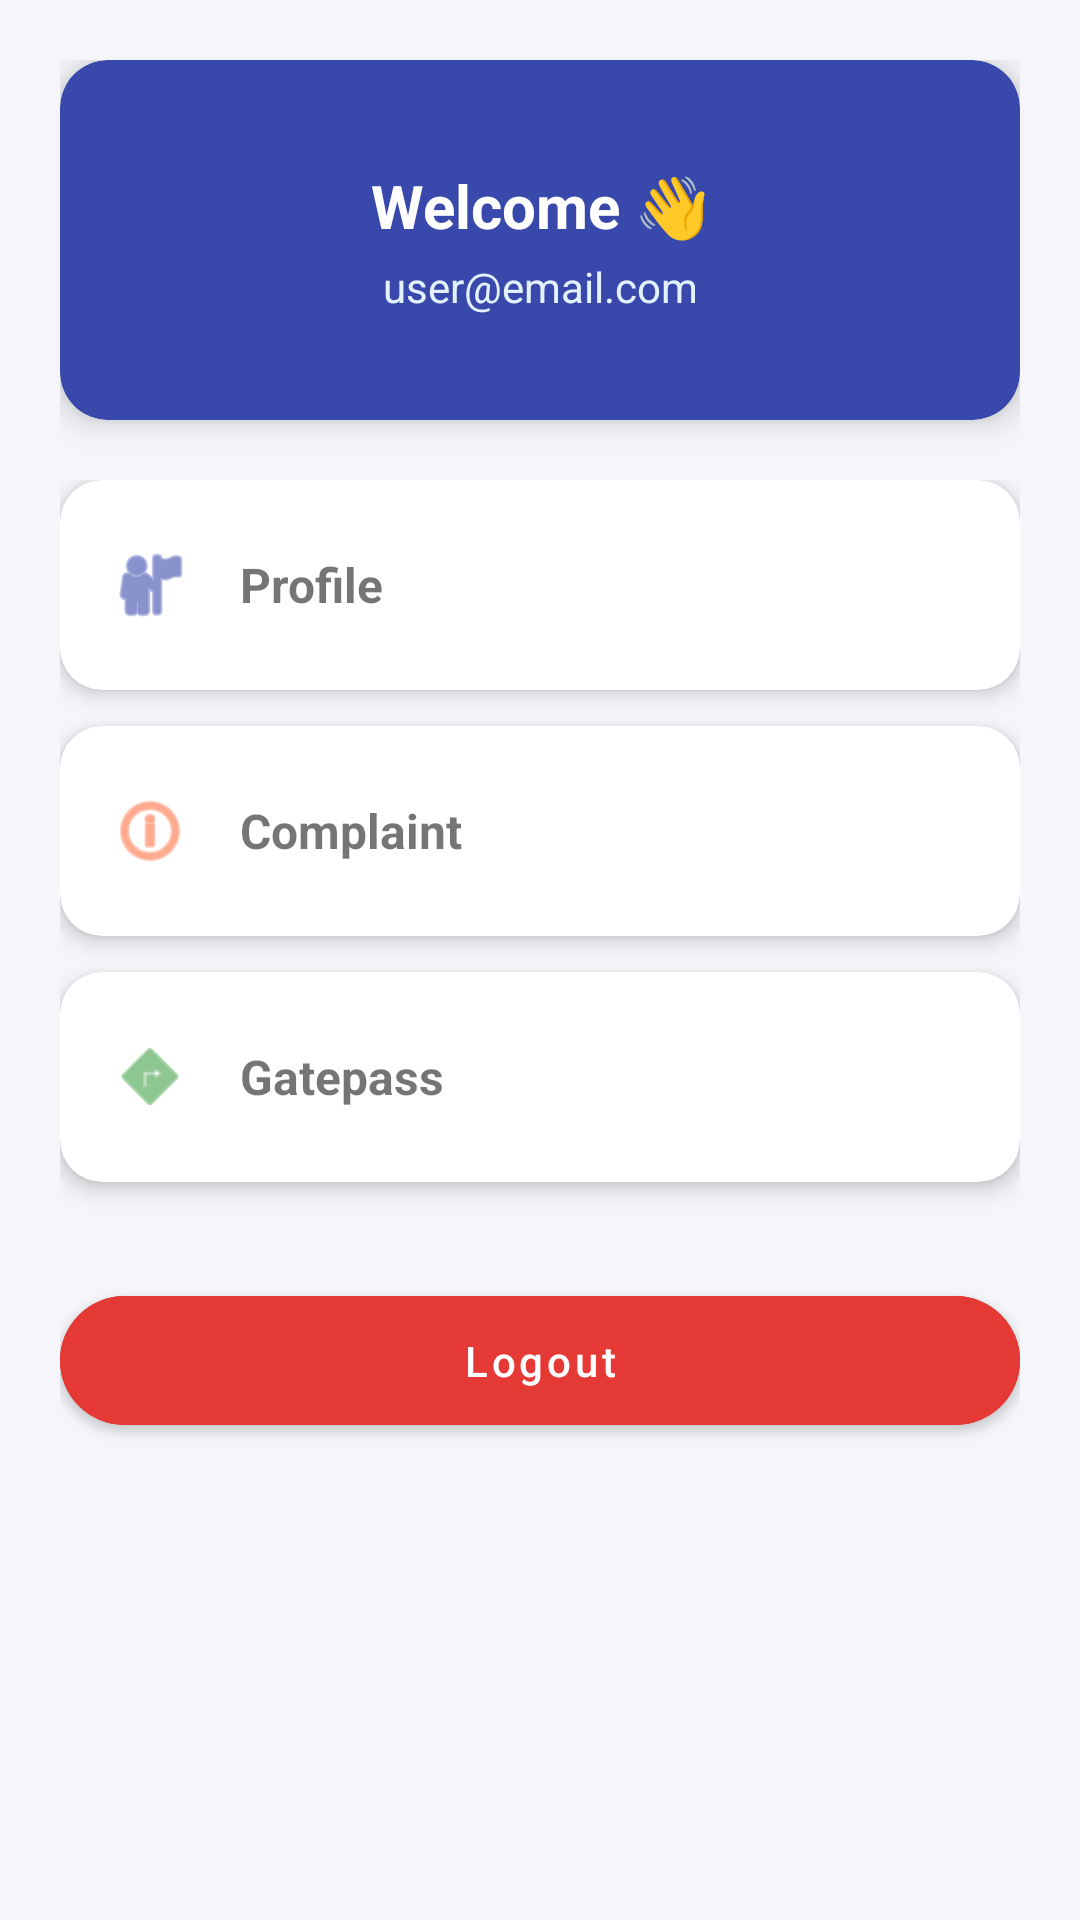

Icons on this 1080*1920 Android screen, each with the point to tap as (x=x, y=y):
directions: (x=150, y=1076)
info details: (x=150, y=831)
myplaces: (x=150, y=585)
